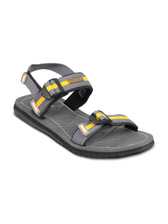shoes: (7, 59, 156, 158)
